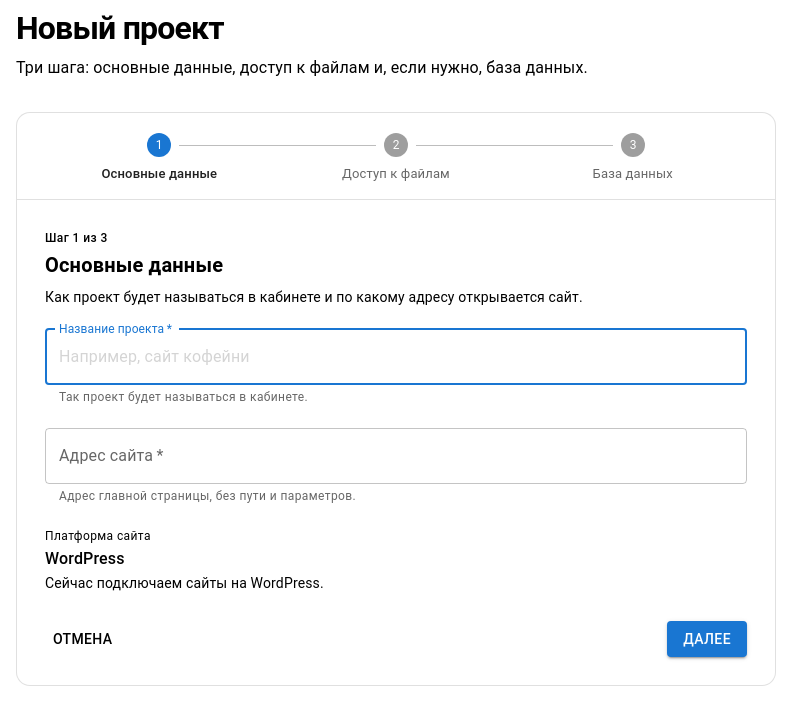
it: the first step › names what is missing before any request and puts the focus on it
Expected: the heading "Основные данные" is shown, [45,254,223,278]
Type "example.ru/shop" into the field labelled "Адрес сайта *" at (396, 456), box [45,428,747,484]
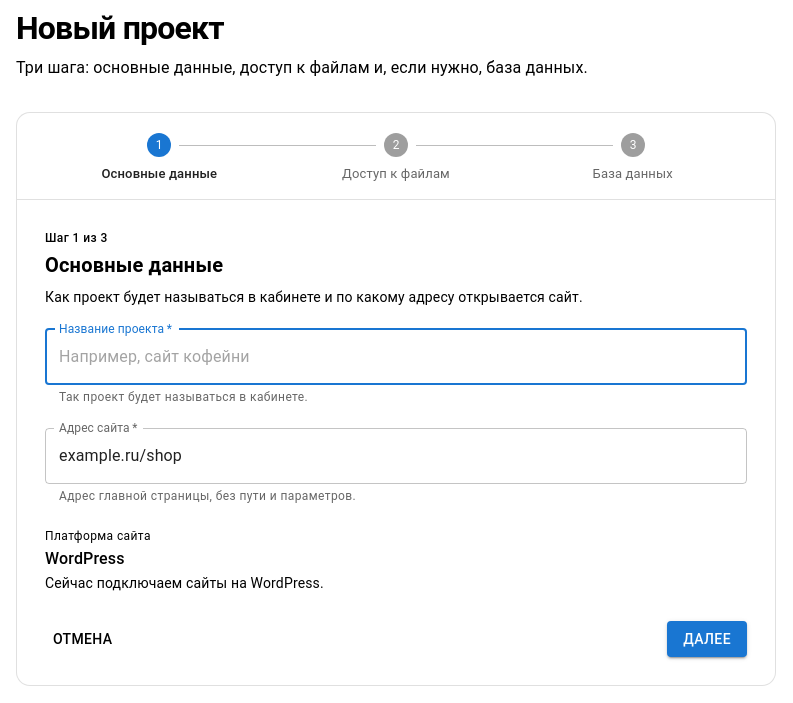
Click the button "Далее" at (707, 639), box [667,621,747,657]
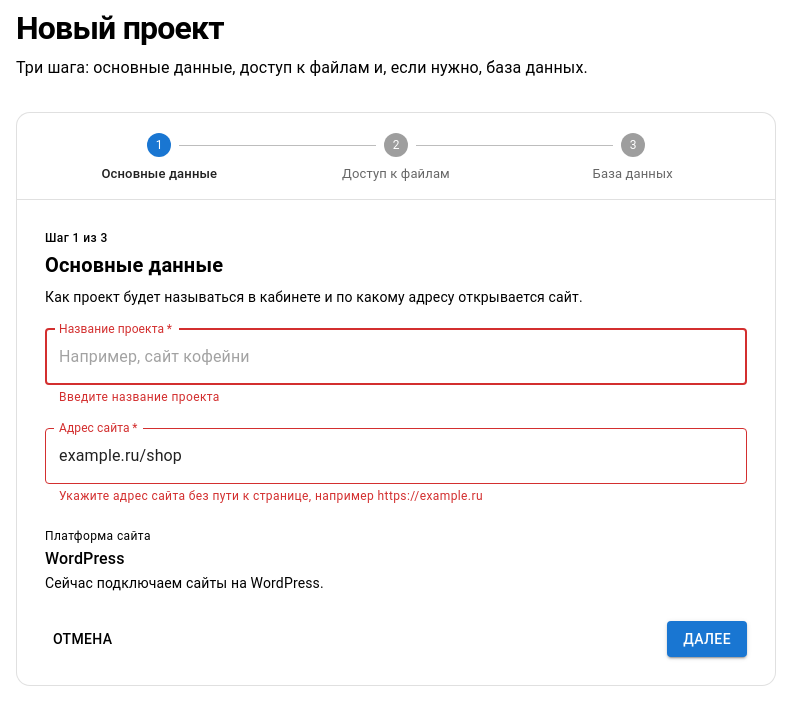
Result: the text "Введите название проекта" is shown at [59,390,220,404]
Result: the text "Укажите адрес сайта без пути к странице, например https://example.ru" is shown at [59,489,483,503]
